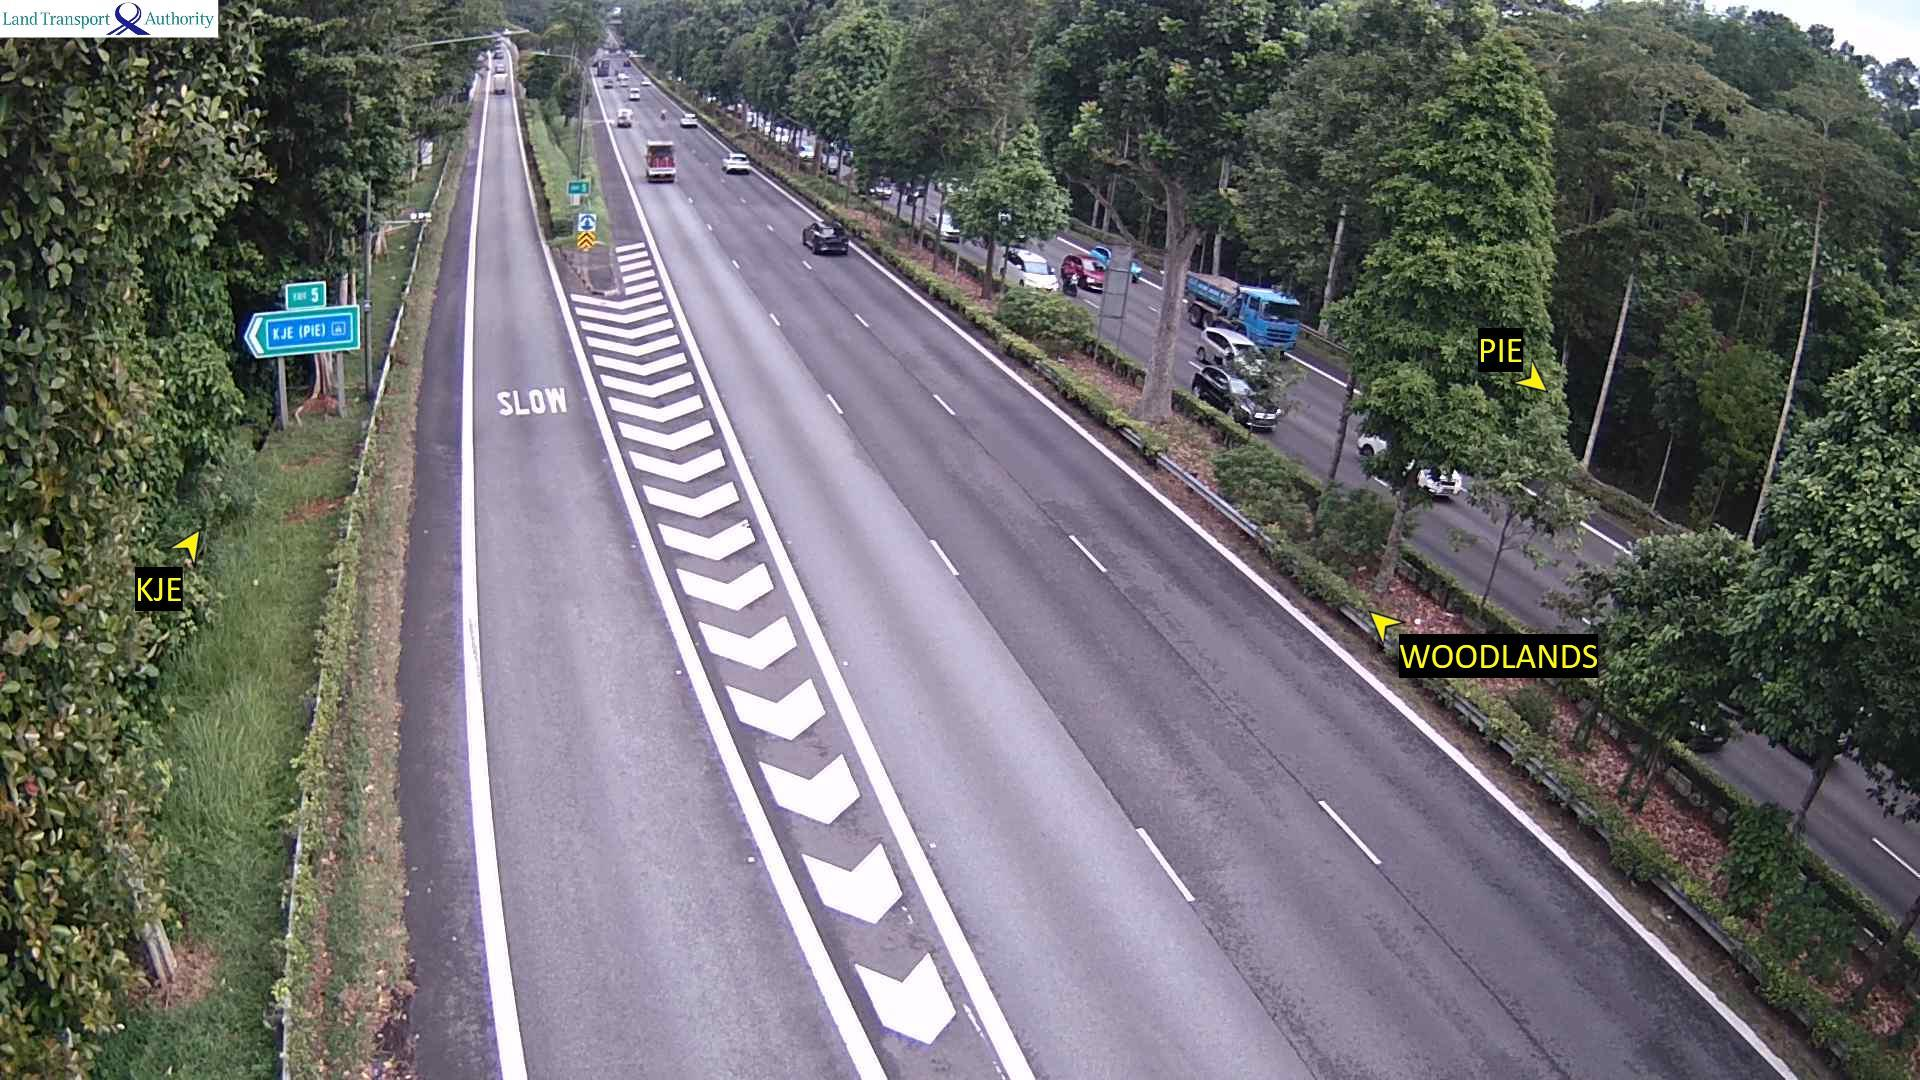bus: (593, 58, 610, 76)
cars: (1183, 254, 1301, 352), (1188, 359, 1281, 431), (1676, 693, 1729, 751), (1195, 323, 1258, 369), (999, 245, 1059, 293), (1083, 237, 1142, 283), (1231, 392, 1281, 431), (1060, 252, 1106, 292), (802, 218, 848, 255), (1355, 414, 1389, 457), (925, 208, 961, 242), (720, 151, 750, 173), (867, 176, 893, 198), (615, 107, 633, 127), (905, 183, 924, 201), (679, 111, 697, 127), (615, 70, 630, 84), (627, 86, 640, 100), (640, 77, 654, 89), (602, 79, 614, 89), (494, 51, 507, 60), (496, 64, 506, 73), (624, 59, 631, 68)
motorcycle: (1062, 271, 1082, 297), (659, 106, 668, 123)
trucks: (644, 139, 676, 182), (492, 70, 508, 92), (493, 41, 501, 49)
